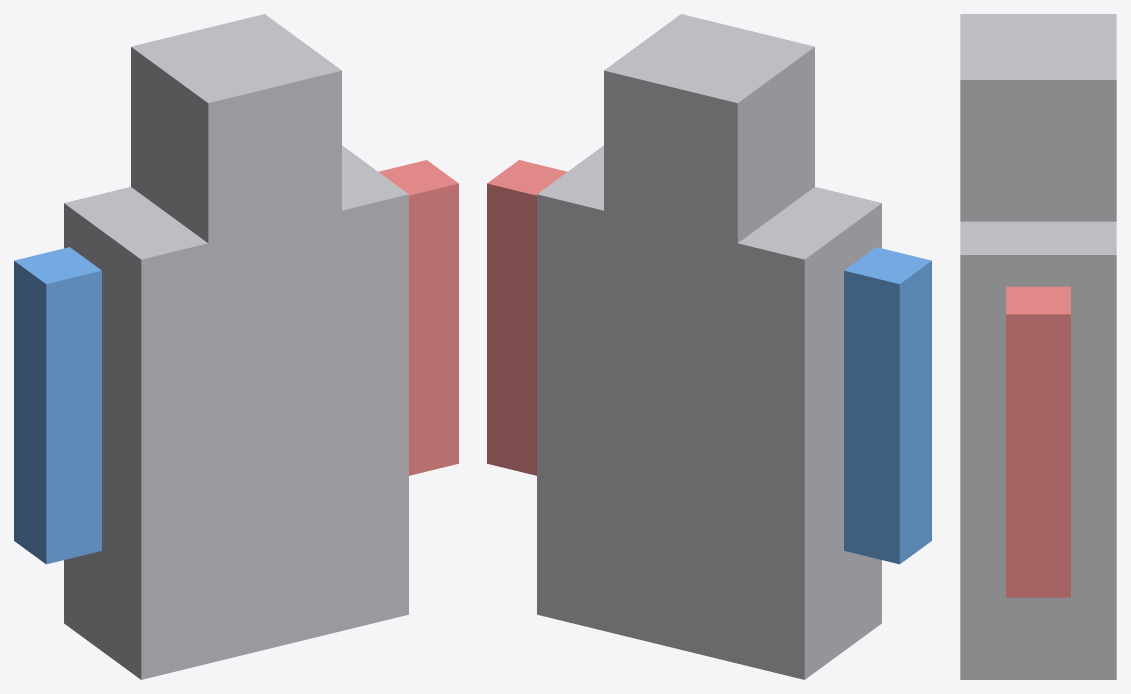
Rendered from game.glb.
3 views of the same model, side by side, from view 1: azimuth 30°, elevation 25°; view 2: azimuth 150°, elevation 25°; view 3: azimuth 270°, elevation 25° (orthographic).
Parts seen in each view (by area): view 1: Torso, Head, RightArm, LeftArm; view 2: Torso, Head, RightArm, LeftArm; view 3: Torso, Head, LeftArm.
Part boxes in pixels (x1,y1,x2,y2): Torso: [64, 145, 408, 679]; Head: [131, 14, 341, 243]; RightArm: [14, 247, 101, 564]; LeftArm: [378, 160, 458, 475]; Torso: [537, 145, 881, 679]; Head: [604, 14, 814, 243]; RightArm: [844, 247, 931, 564]; LeftArm: [487, 160, 567, 475]; Torso: [960, 221, 1116, 679]; Head: [960, 14, 1116, 221]; LeftArm: [1006, 286, 1070, 597].
Size of the model in its own units: 1.85 by 2.4 by 0.6.
